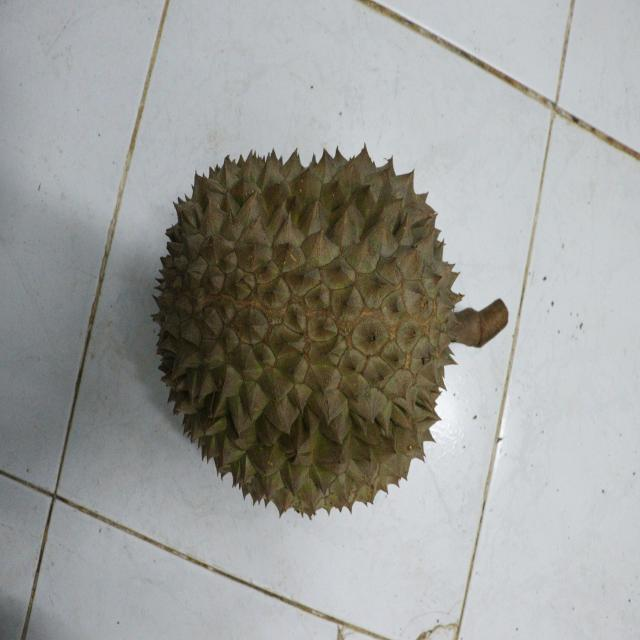mature: (149, 134, 458, 529)
